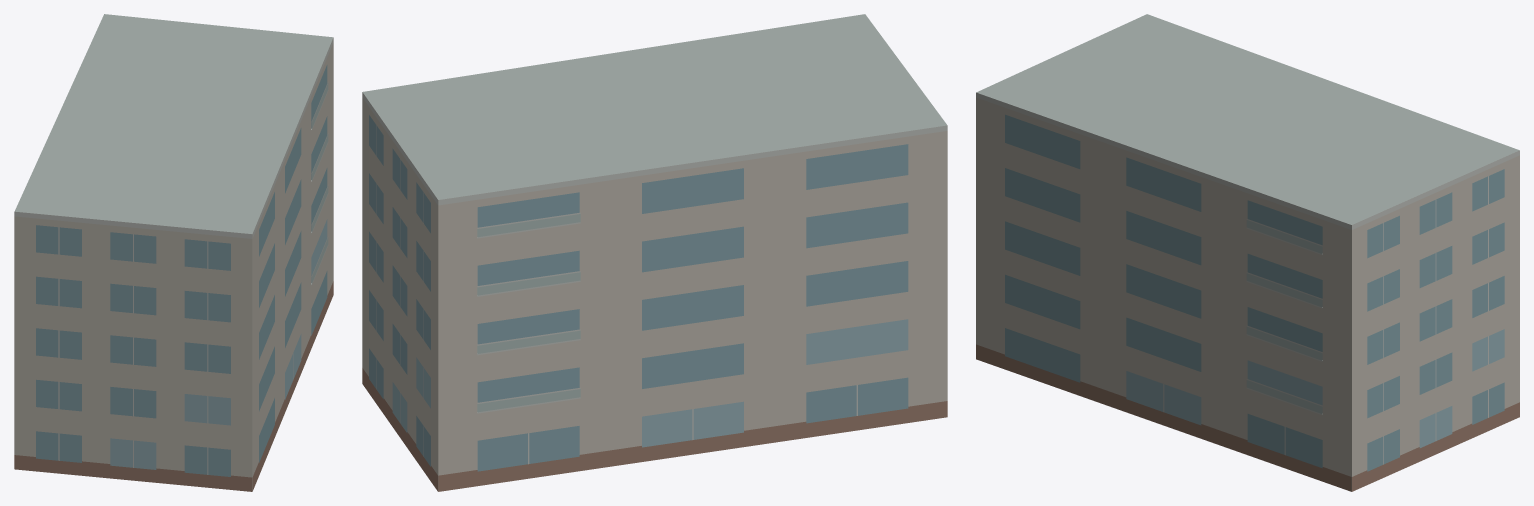
File: survey-upis-32778366.glb
The picture shows the model from 3 angles, left to right: view 1: azimuth 30°, elevation 25°; view 2: azimuth 150°, elevation 25°; view 3: azimuth 270°, elevation 25°; orthographic projection. The views are drawn at different scales.
Visible parts, largest first — view 1: survey-upis-32778366.tmp; view 2: survey-upis-32778366.tmp; view 3: survey-upis-32778366.tmp.
Part boxes in pixels (box(x1,y1,x2,y2)): survey-upis-32778366.tmp: box(14, 14, 333, 491); survey-upis-32778366.tmp: box(362, 14, 947, 491); survey-upis-32778366.tmp: box(976, 14, 1519, 491).
Size of the model in its own units: 22.33 by 13.15 by 24.3.
